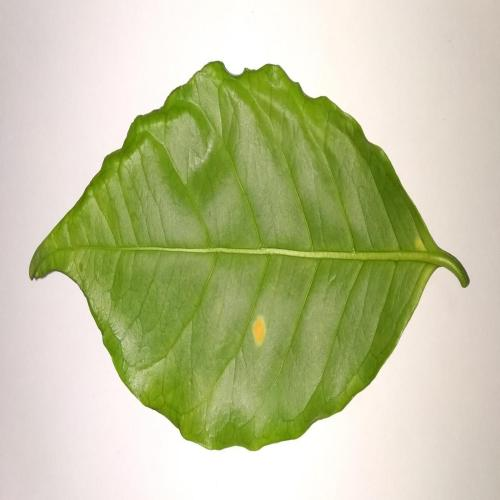leaf: (5, 57, 486, 462)
rust: (246, 313, 272, 352)
